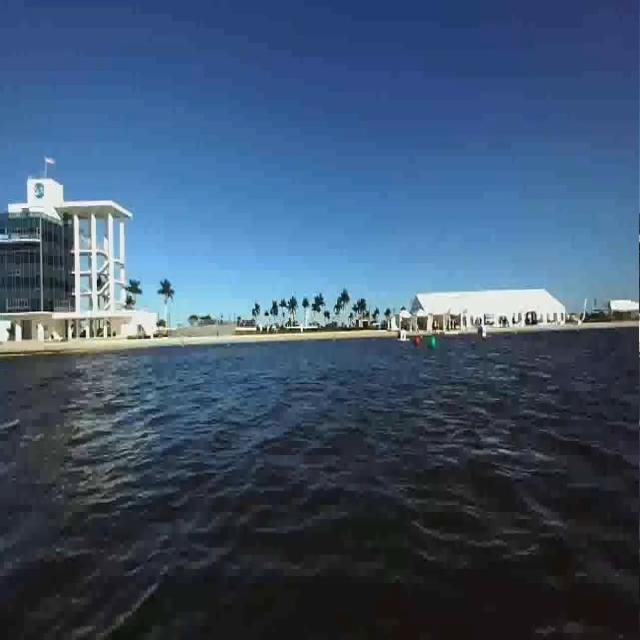green-buoy: (429, 336, 436, 351)
red-buoy: (412, 331, 420, 350)
